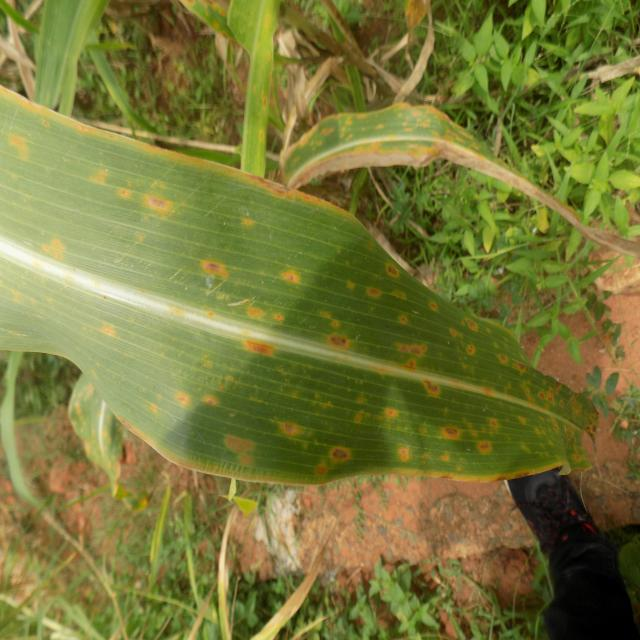millet_rust: (0, 86, 598, 483)
